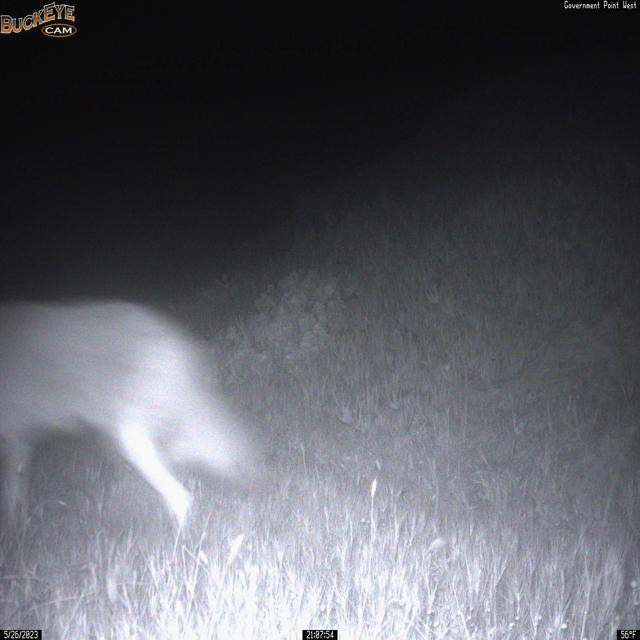coyote: (0, 297, 266, 549)
